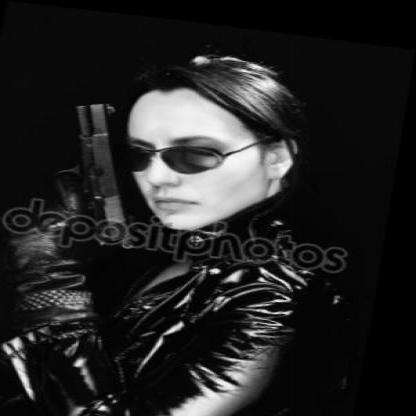pistol: (26, 92, 170, 244)
